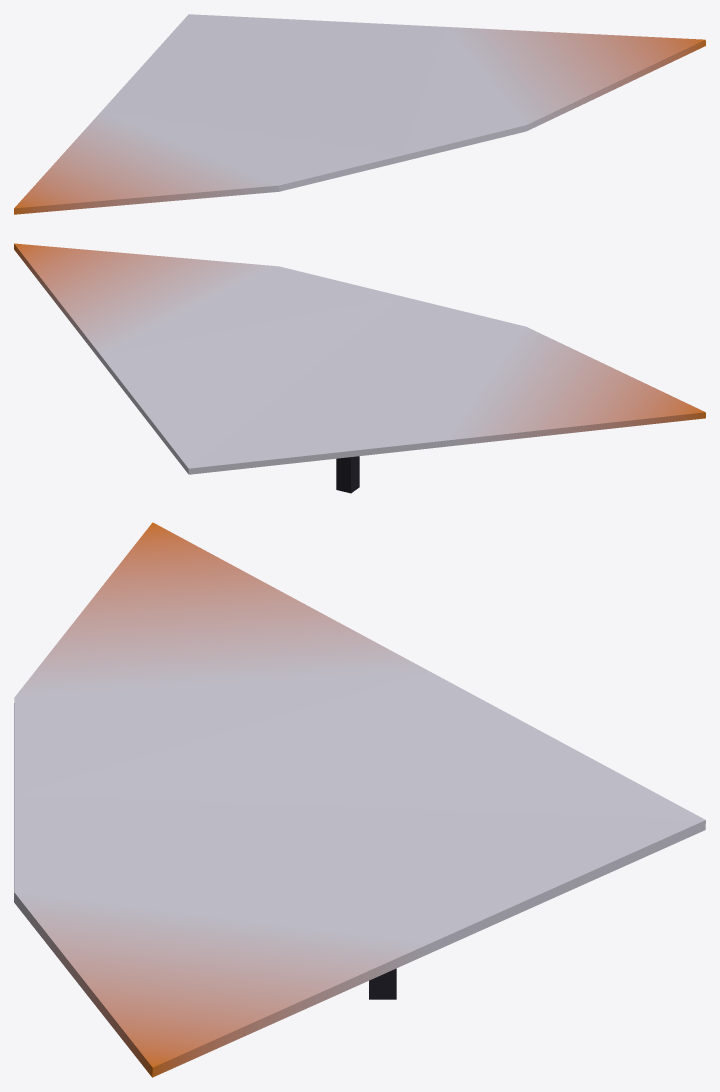
File: wing.glb
3 renders of one model, top to bottom at view 1: azimuth 30°, elevation 25°; view 2: azimuth 150°, elevation 25°; view 3: azimuth 270°, elevation 25°, orthographic. The views are drawn at different scales.
Visible parts, largest first — view 1: wing; view 2: wing; view 3: wing.
Boxes of the visible parts, x1=… form: wing: x1=14, y1=14, x2=705, y2=214; wing: x1=14, y1=243, x2=705, y2=493; wing: x1=14, y1=522, x2=705, y2=1077.
Size of the model in its own units: 14 by 1.82 by 7.5.
